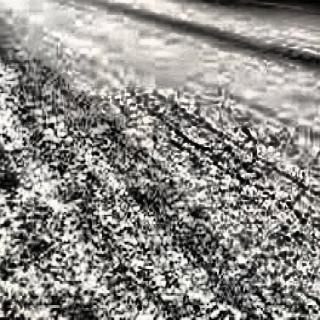alligator-crack: (26, 200, 316, 315), (10, 32, 122, 196), (130, 76, 292, 176)
